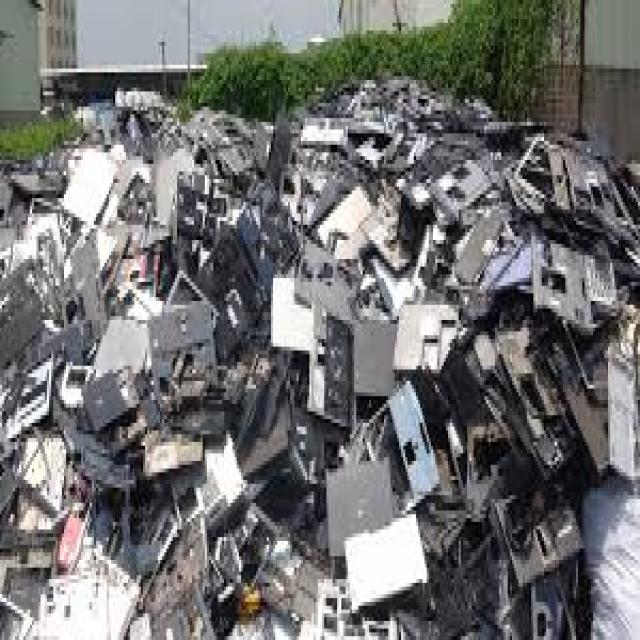Hazard: (9, 81, 640, 617)
